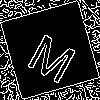M: (25, 25, 83, 85)
